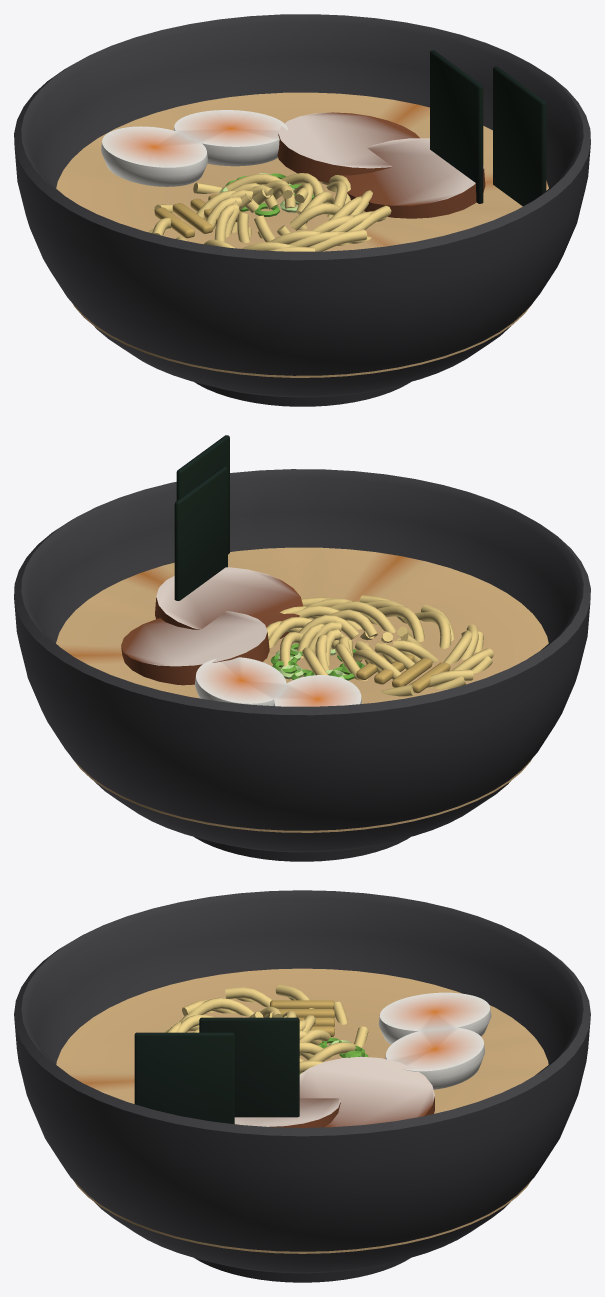
File: dish-ramen-lod0.glb
3 renders of one model, top to bottom at view 1: azimuth 30°, elevation 25°; view 2: azimuth 150°, elevation 25°; view 3: azimuth 270°, elevation 25°, orthographic.
Parts seen in each view (by area): view 1: ramen.lod0__table dark glaze, ramen.lod0__food glaze, ramen.lod0__food; view 2: ramen.lod0__table dark glaze, ramen.lod0__food glaze, ramen.lod0__food; view 3: ramen.lod0__table dark glaze, ramen.lod0__food glaze, ramen.lod0__food.
Boxes of the visible parts, bbox=[...] form: ramen.lod0__table dark glaze: bbox=[14, 14, 590, 406]; ramen.lod0__food glaze: bbox=[56, 92, 548, 377]; ramen.lod0__food: bbox=[154, 50, 546, 238]; ramen.lod0__table dark glaze: bbox=[14, 469, 590, 861]; ramen.lod0__food glaze: bbox=[56, 547, 548, 832]; ramen.lod0__food: bbox=[121, 435, 450, 693]; ramen.lod0__table dark glaze: bbox=[14, 890, 590, 1282]; ramen.lod0__food glaze: bbox=[56, 968, 548, 1253]; ramen.lod0__food: bbox=[134, 1000, 434, 1127].
Bounding box in the file's own units: 0.196 × 0.102 × 0.196.
